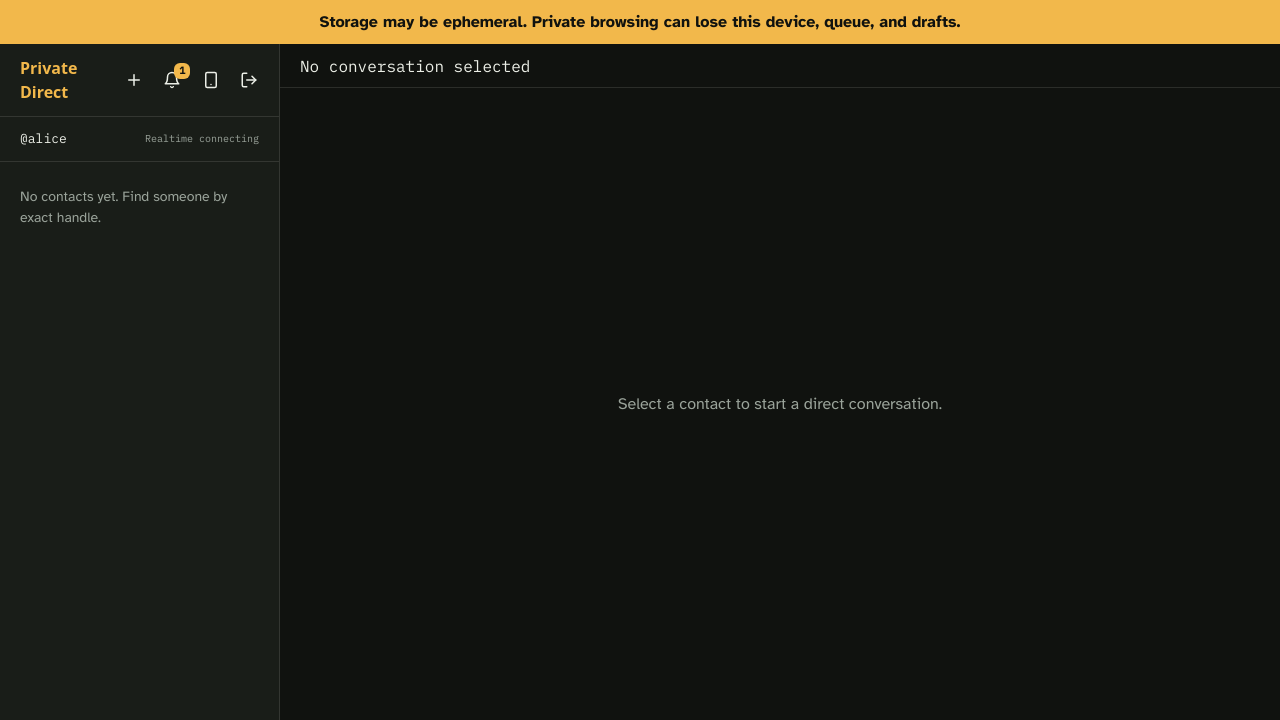
Scenario: contact consent flow › accepts an incoming request and refetches both authoritative lists
Click the button named "Incoming requests, 1 pending" at x=172, y=80, box [154,62,190,98]
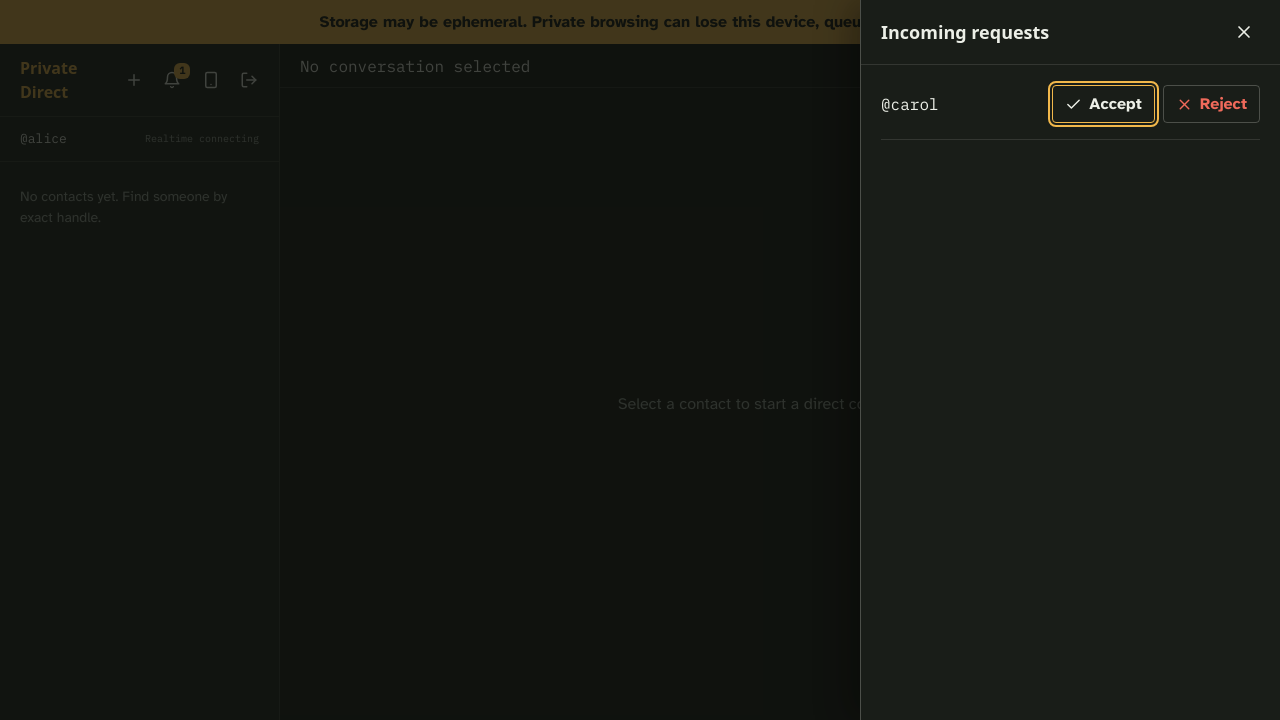
Click the button with aria-label "Accept @carol" at x=1103, y=104, box [1052,85,1155,123]
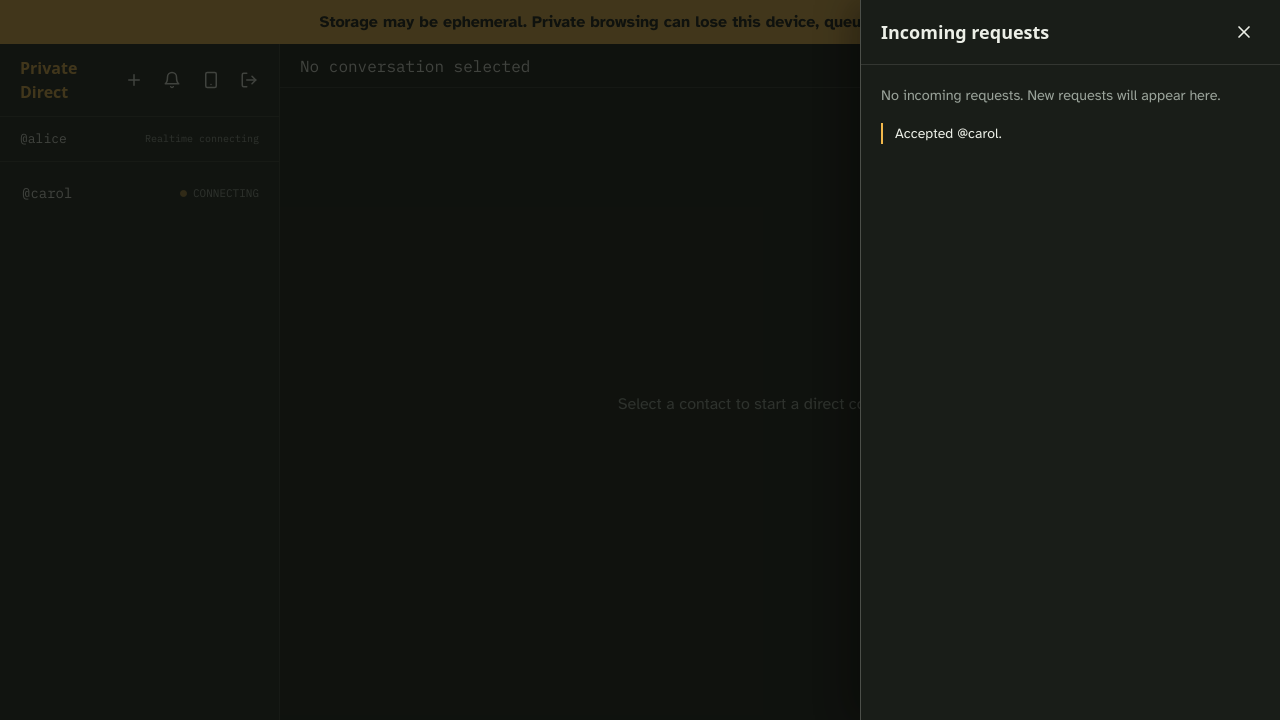
Result: the text "No incoming requests. New requests will appear here." is shown at [881,85,1260,107]
Result: the link with aria-label "@carol, connecting" is shown at [22,184,259,202]
